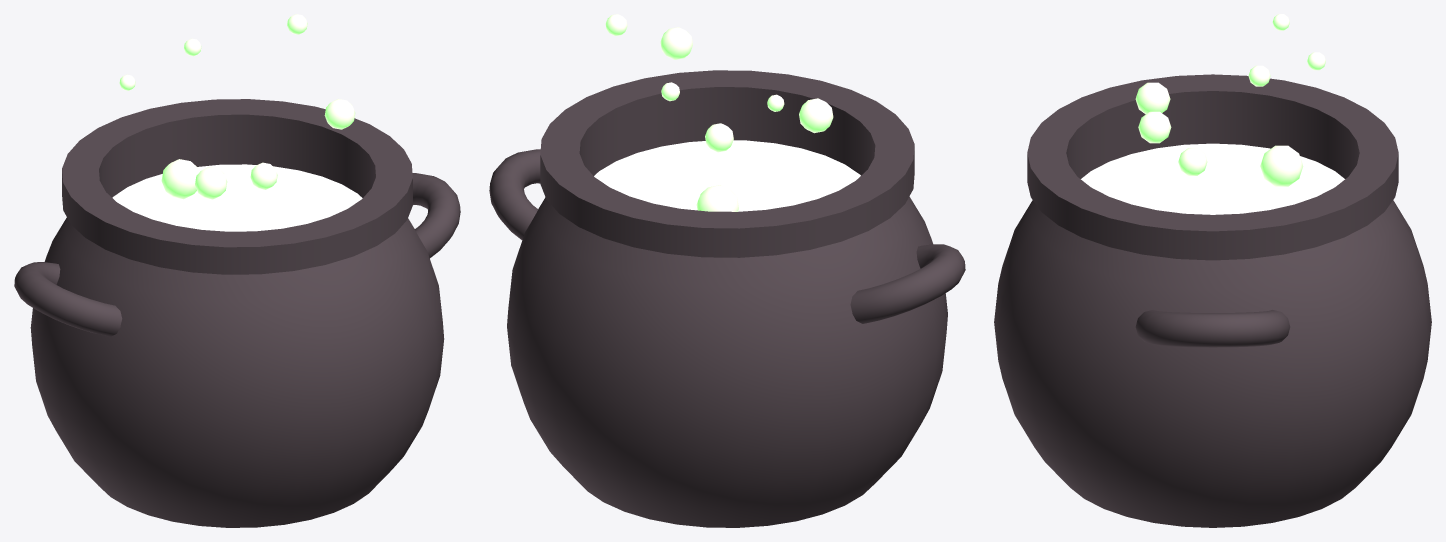
The model's file is pot.glb.
3 views of the same model, side by side, from view 1: azimuth 30°, elevation 25°; view 2: azimuth 150°, elevation 25°; view 3: azimuth 270°, elevation 25° (orthographic). The views are drawn at different scales.
Parts seen in each view (by area): view 1: pot; view 2: pot; view 3: pot.
Part boxes in pixels (<box>): pot: <box>14,14,460,527</box>; pot: <box>489,14,965,527</box>; pot: <box>994,14,1431,527</box>.
Bounding box in the file's own units: 2.37 × 2.21 × 2.
Materials: 2 (1 with a texture image).
